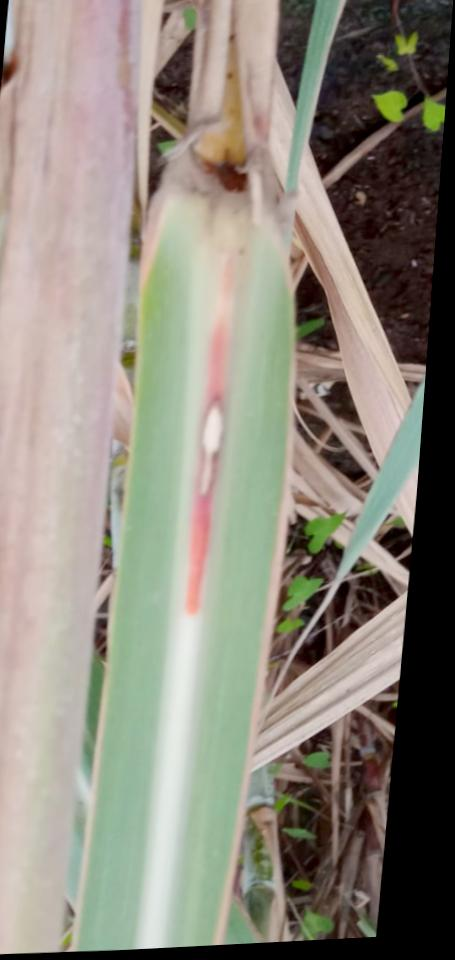RedRot: (183, 314, 228, 617)
